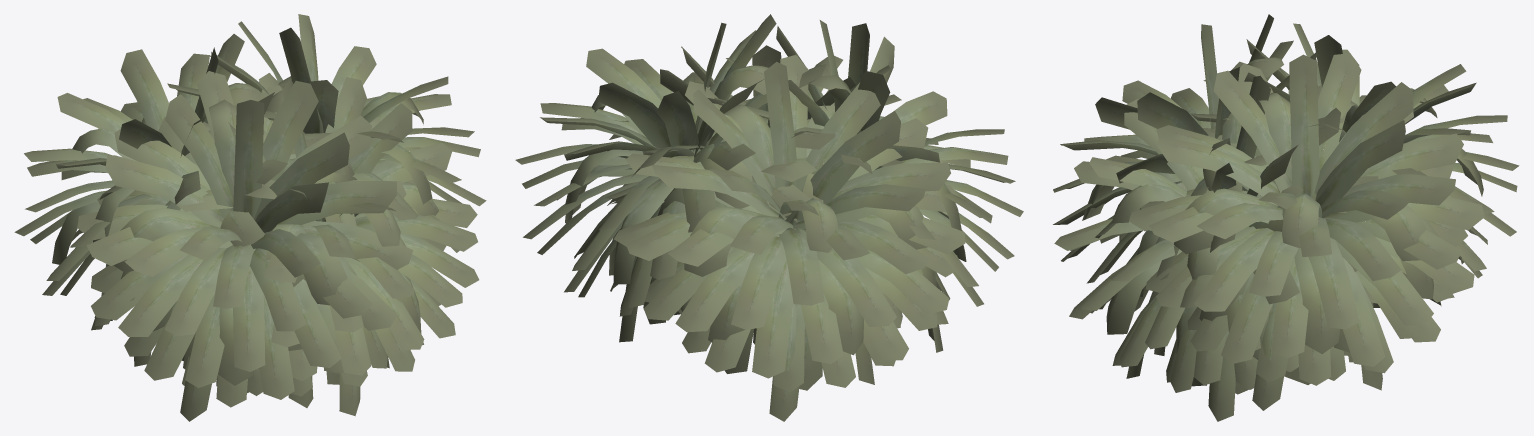
File: MESH_AF08_DracaenaDraco_Y_LOD1.fbx
The picture shows the model from 3 angles, left to right: view 1: azimuth 30°, elevation 25°; view 2: azimuth 150°, elevation 25°; view 3: azimuth 270°, elevation 25°; orthographic projection. The views are drawn at different scales.
Parts seen in each view (by area): view 1: MI_LOD1_001; view 2: MI_LOD1_001; view 3: MI_LOD1_001.
Part boxes in pixels (<box>): MI_LOD1_001: <box>14,14,486,421</box>; MI_LOD1_001: <box>515,14,1023,421</box>; MI_LOD1_001: <box>1053,14,1519,421</box>.
Size of what is drawn, in the model's own units: 201 by 155 by 194.
